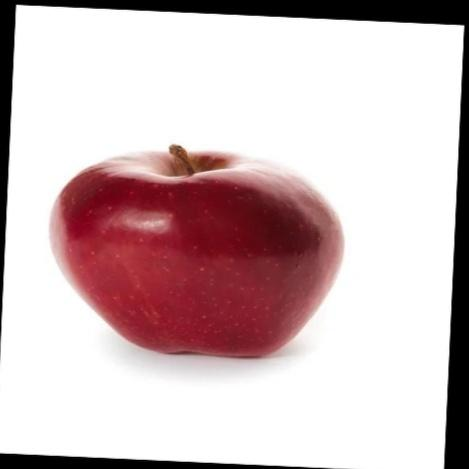red apple: (39, 142, 349, 358)
